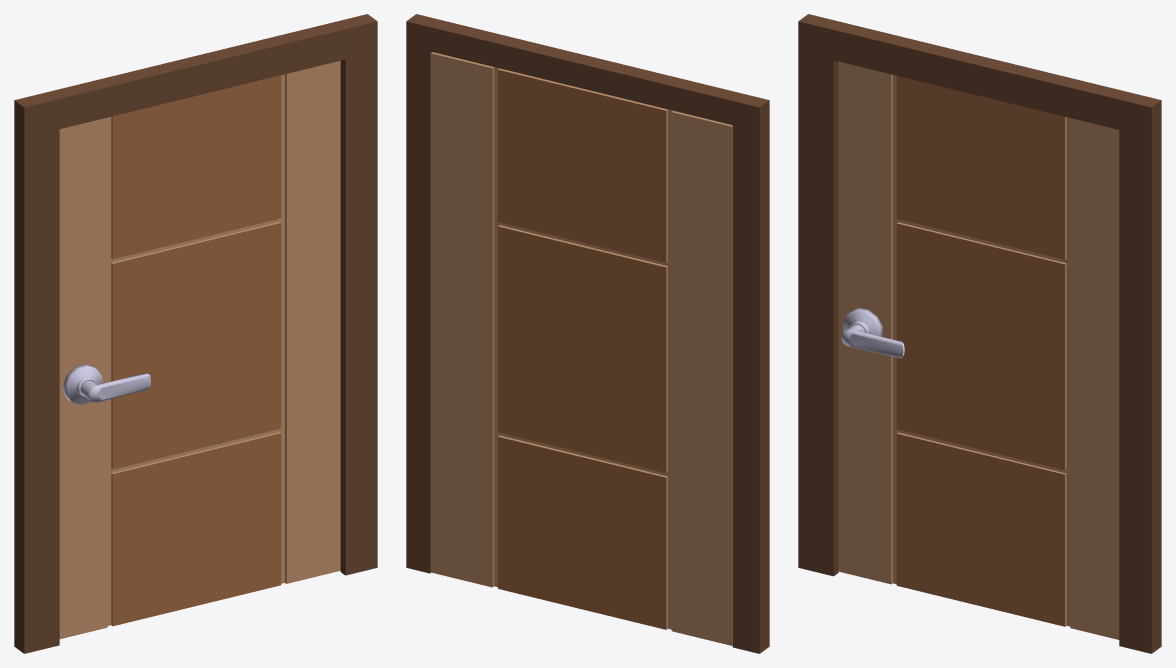
The model's file is scene_DoorWood.fbx.
The picture shows the model from 3 angles, left to right: view 1: azimuth 30°, elevation 25°; view 2: azimuth 150°, elevation 25°; view 3: azimuth 330°, elevation 25°; orthographic projection.
Parts seen in each view (by area): view 1: DoorWood; view 2: DoorWood; view 3: DoorWood.
Boxes of the visible parts, <box> form: DoorWood: <box>14,14,377,653</box>; DoorWood: <box>406,14,769,653</box>; DoorWood: <box>798,14,1161,653</box>.
Size of the model in its own units: 186 by 274 by 19.62.
